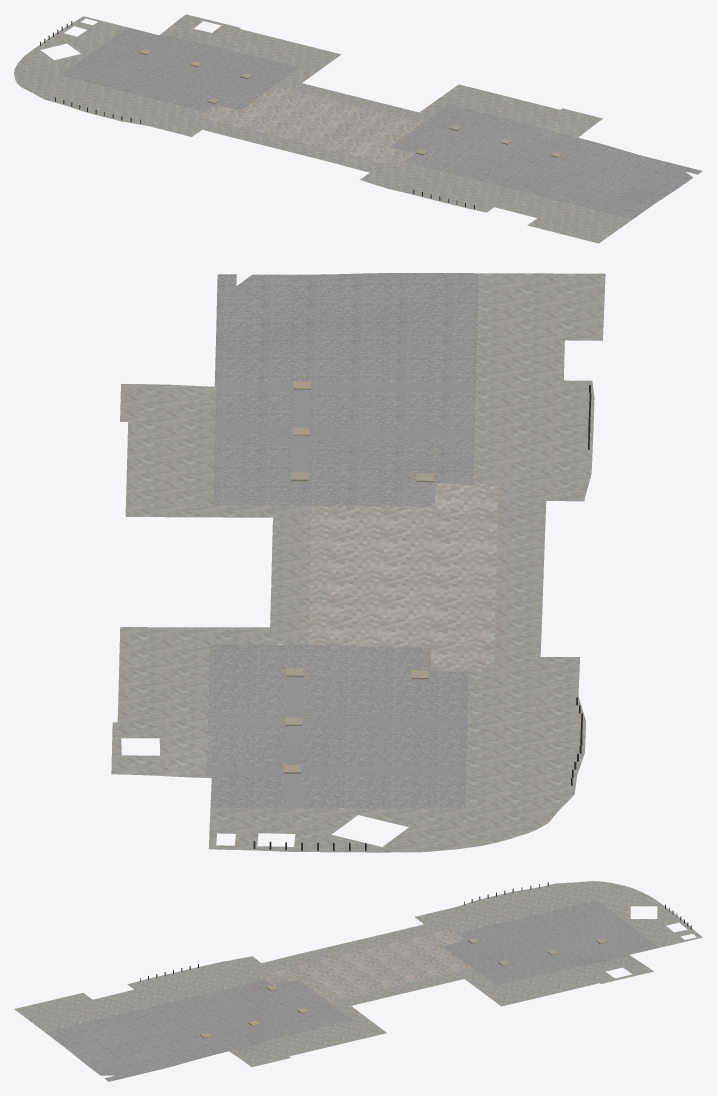
Rendered from ground.glb.
3 views of the same model, one above another, from view 1: azimuth 30°, elevation 25°; view 2: azimuth 150°, elevation 25°; view 3: azimuth 270°, elevation 25° (orthographic). The views are drawn at different scales.
Visible parts, largest first — view 1: ground__Ground slabs b23c554f, ground__Ground setts b698f512, ground__Ground setts 39b1f728, ground__Ground slabs 9cf4e093, ground__Ground colour #9C9D9C.001, ground__Ground colour #B3AA98; view 2: ground__Ground slabs b23c554f, ground__Ground setts b698f512, ground__Ground setts 39b1f728, ground__Ground slabs 9cf4e093, ground__Ground colour #9C9D9C.001, ground__Ground colour #B3AA98; view 3: ground__Ground slabs b23c554f, ground__Ground setts b698f512, ground__Ground setts 39b1f728, ground__Ground slabs 9cf4e093, ground__Ground colour #9C9D9C.001, ground__Ground colour #B3AA98.
Boxes of the visible parts, x1=… form: ground__Ground slabs b23c554f: x1=14, y1=14, x2=632, y2=243; ground__Ground setts b698f512: x1=390, y1=104, x2=702, y2=219; ground__Ground setts 39b1f728: x1=59, y1=27, x2=299, y2=111; ground__Ground slabs 9cf4e093: x1=198, y1=86, x2=421, y2=166; ground__Ground colour #9C9D9C.001: x1=95, y1=35, x2=582, y2=189; ground__Ground colour #B3AA98: x1=139, y1=49, x2=562, y2=157; ground__Ground slabs b23c554f: x1=111, y1=273, x2=605, y2=852; ground__Ground setts b698f512: x1=213, y1=273, x2=478, y2=507; ground__Ground setts 39b1f728: x1=206, y1=644, x2=468, y2=808; ground__Ground slabs 9cf4e093: x1=308, y1=483, x2=498, y2=671; ground__Ground colour #9C9D9C.001: x1=207, y1=380, x2=475, y2=807; ground__Ground colour #B3AA98: x1=284, y1=381, x2=433, y2=773; ground__Ground slabs b23c554f: x1=14, y1=881, x2=702, y2=1067; ground__Ground setts b698f512: x1=45, y1=979, x2=352, y2=1081; ground__Ground setts 39b1f728: x1=442, y1=900, x2=659, y2=985; ground__Ground slabs 9cf4e093: x1=259, y1=929, x2=471, y2=1001; ground__Ground colour #9C9D9C.001: x1=159, y1=908, x2=641, y2=1051; ground__Ground colour #B3AA98: x1=200, y1=938, x2=607, y2=1038.
Bounding box in the file's own units: 108 × 1.5 × 159.
8 materials, 4 textured.
